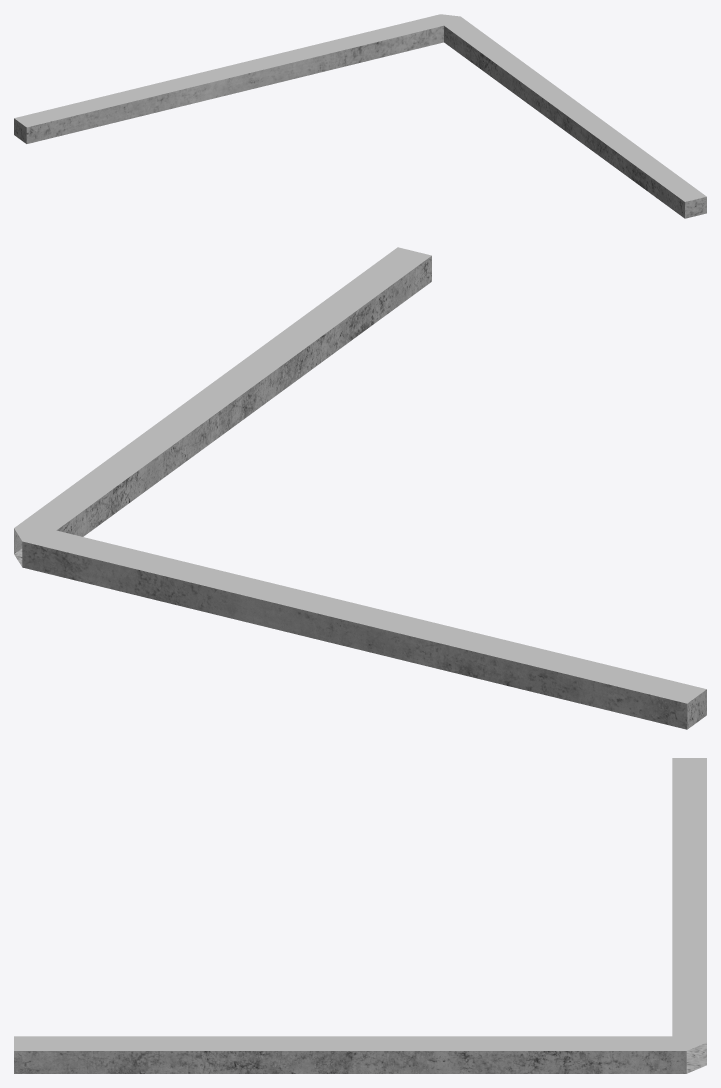
Rendered from FloorMicroCorner.fbx.
3 views of the same model, one above another, from view 1: azimuth 30°, elevation 25°; view 2: azimuth 150°, elevation 25°; view 3: azimuth 270°, elevation 25° (orthographic). The views are drawn at different scales.
Parts seen in each view (by area): view 1: FloorMicroCorner; view 2: FloorMicroCorner; view 3: FloorMicroCorner.
Part boxes in pixels (bbox=[...]): FloorMicroCorner: bbox=[14, 14, 706, 218]; FloorMicroCorner: bbox=[14, 247, 706, 729]; FloorMicroCorner: bbox=[14, 758, 706, 1073].
Bounding box in the file's own units: 157 × 5.73 × 157.
